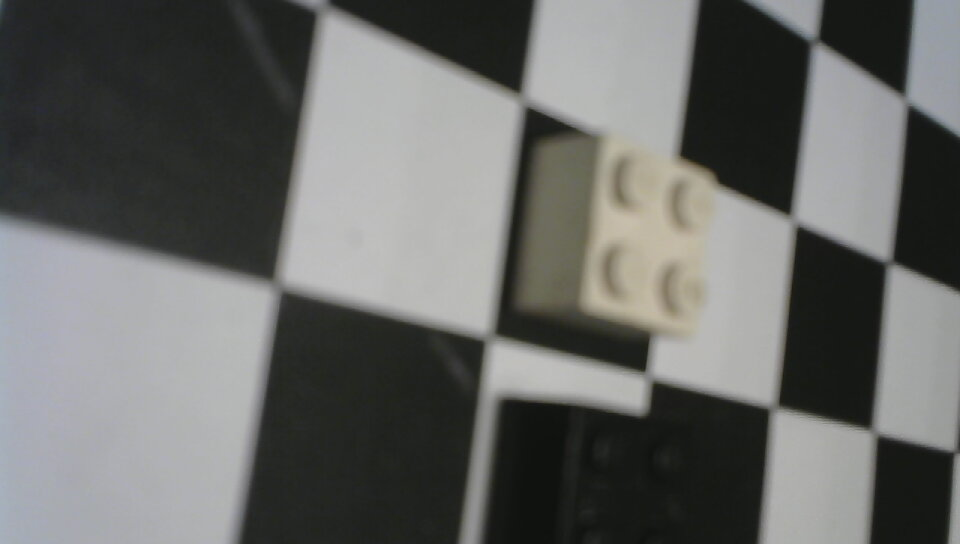wp: (511, 124, 719, 348)
